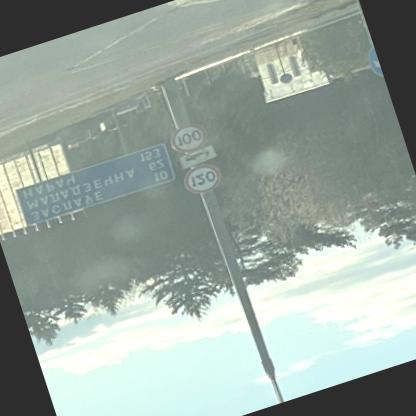speedlimit: (179, 162, 222, 200), (166, 123, 207, 158)
